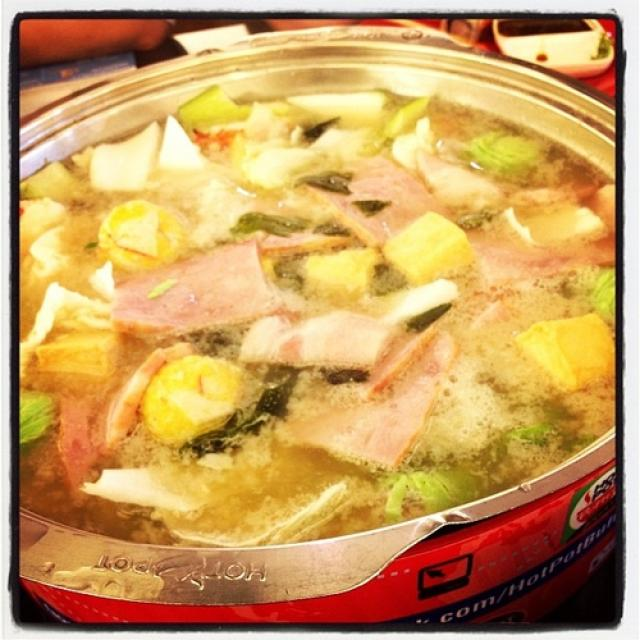汤锅炖物: (27, 55, 608, 584)
